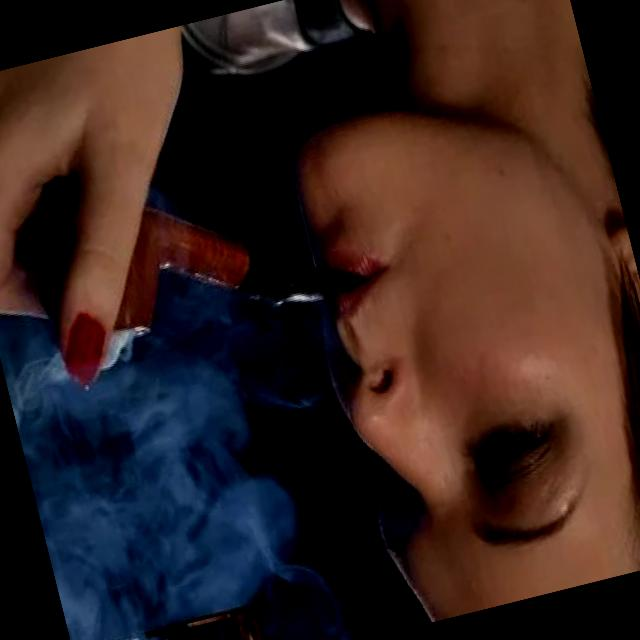smoke: (12, 120, 369, 383)
